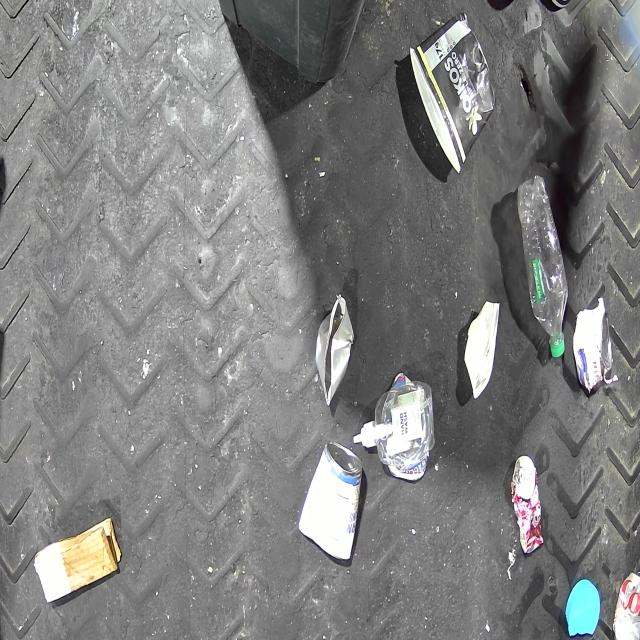can: (296, 439, 364, 562), (314, 294, 354, 406), (511, 455, 545, 555), (573, 305, 611, 390), (613, 568, 639, 640)
plastic_bottle: (518, 175, 568, 358)
